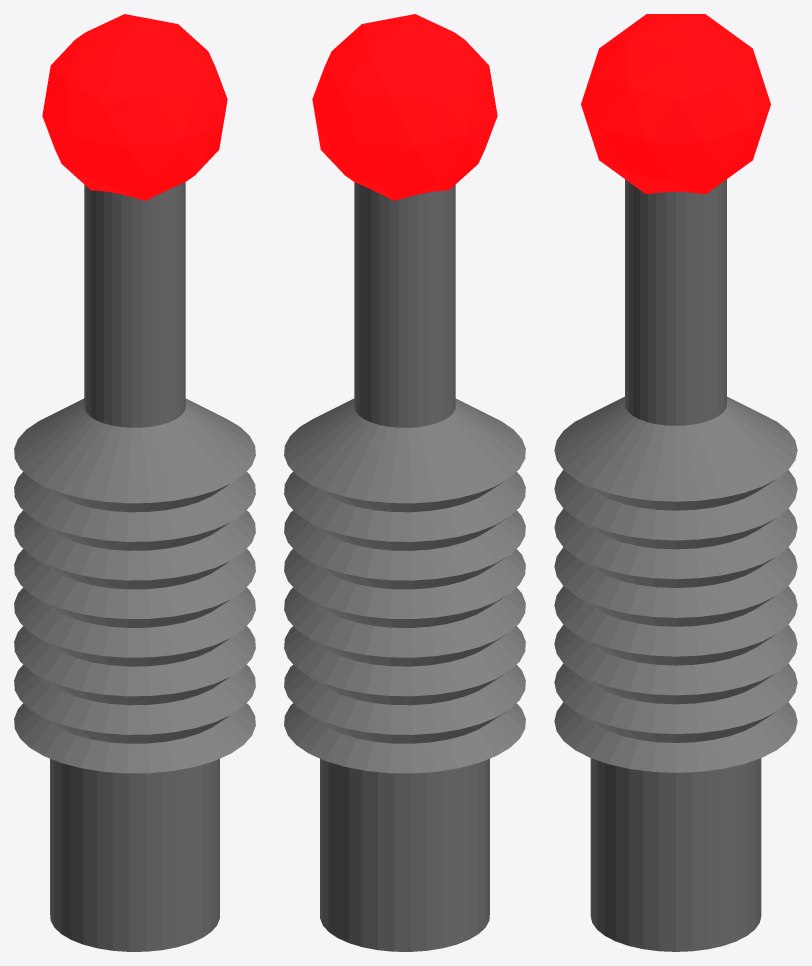
File: beacon_1.glb
The picture shows the model from 3 angles, left to right: view 1: azimuth 30°, elevation 25°; view 2: azimuth 150°, elevation 25°; view 3: azimuth 270°, elevation 25°; orthographic projection.
Visible parts, largest first — view 1: Circle, Icosphere; view 2: Circle, Icosphere; view 3: Circle, Icosphere.
Part boxes in pixels (x1,y1,x2,y2): Circle: (14,182,255,951); Icosphere: (42,14,227,200); Circle: (284,182,525,951); Icosphere: (312,14,497,200); Circle: (554,179,797,951); Icosphere: (581,14,770,193).
Bounding box in the file's own units: 2.85 × 11.6 × 2.85.
